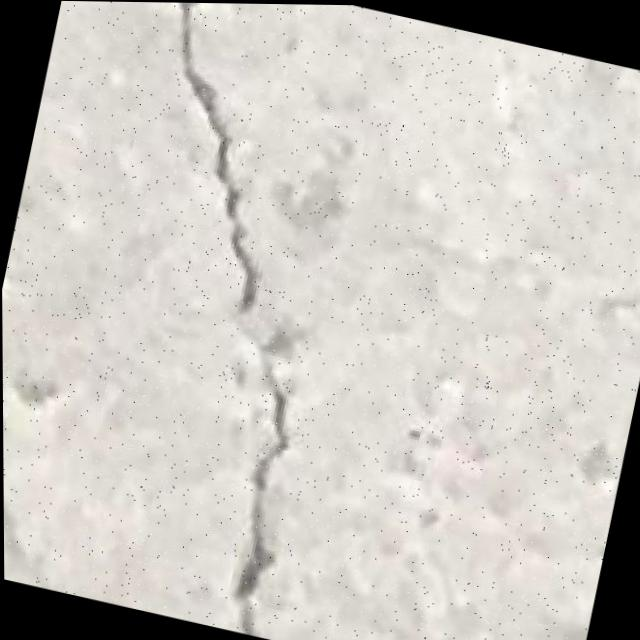Crack: (24, 0, 402, 640)
